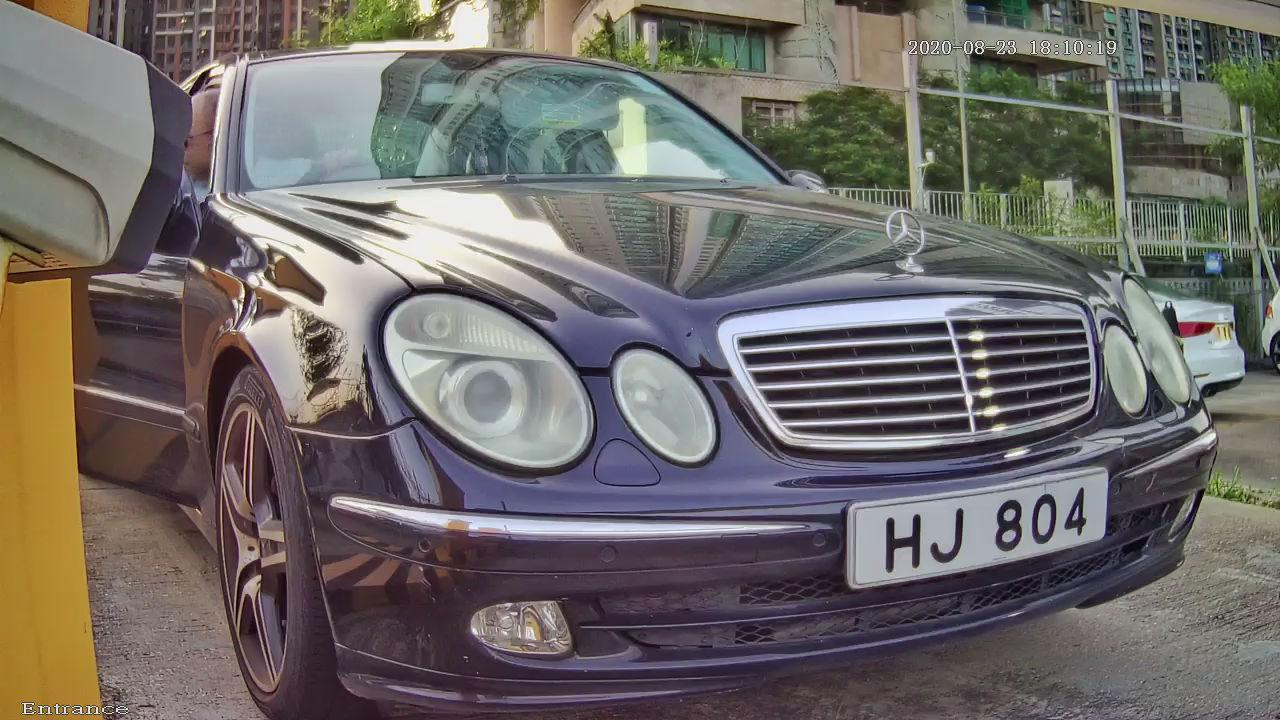License Plate: (807, 432, 1153, 633)
